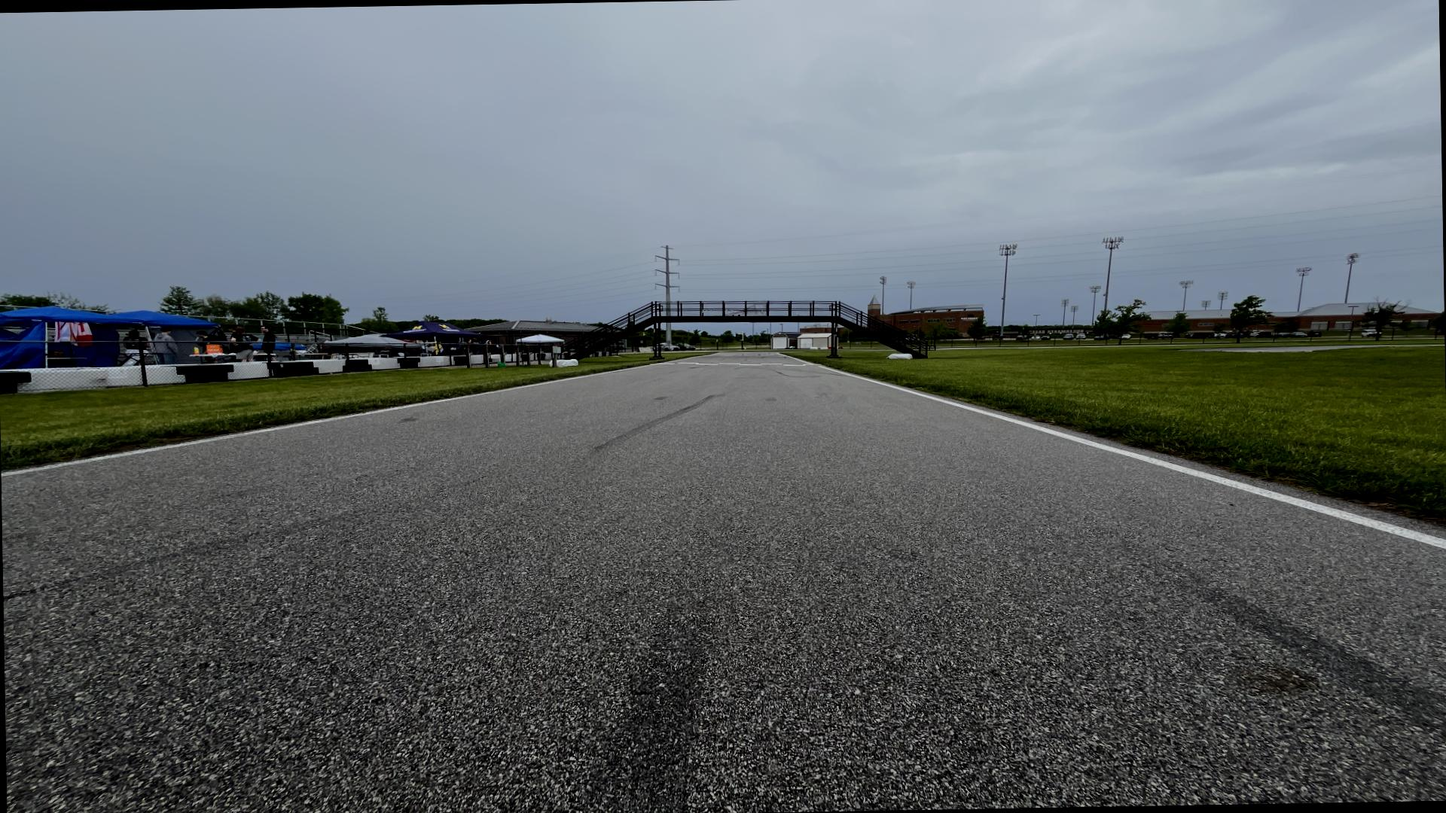white-line: (819, 366, 1445, 549), (1, 365, 652, 477), (663, 354, 714, 363), (776, 353, 808, 364)
